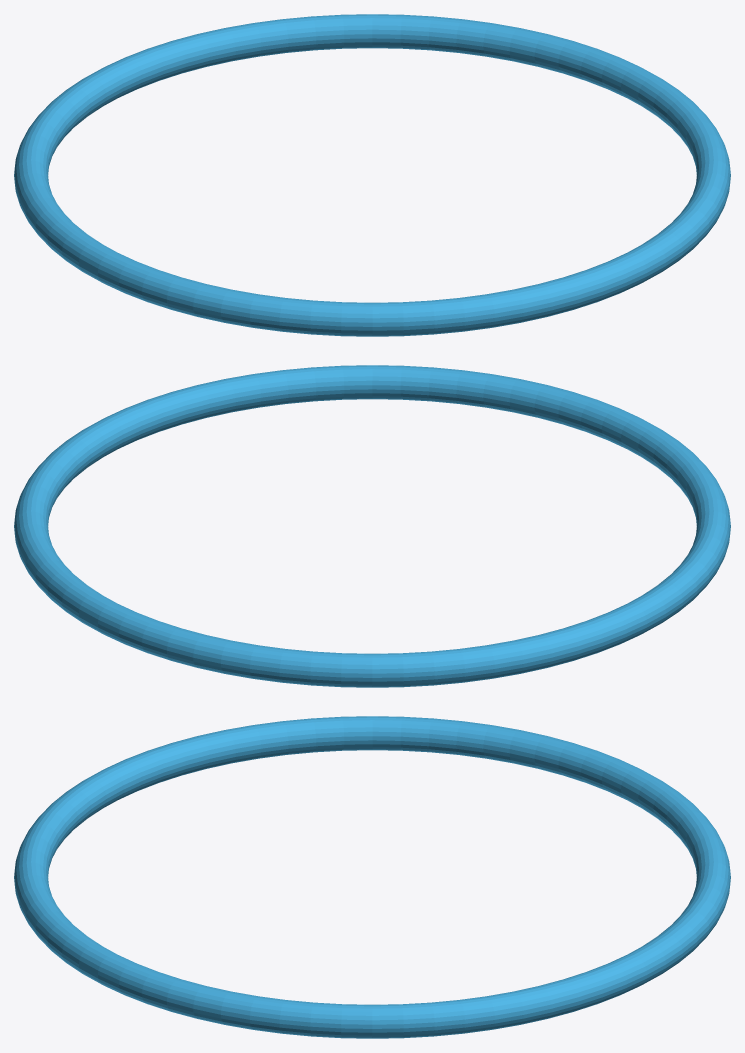
File: Torusn.fbx
The picture shows the model from 3 angles, top to bottom: view 1: azimuth 30°, elevation 25°; view 2: azimuth 150°, elevation 25°; view 3: azimuth 270°, elevation 25°; orthographic projection.
Parts seen in each view (by area): view 1: Torus; view 2: Torus; view 3: Torus.
Part boxes in pixels (x1,y1,x2,y2): Torus: [14, 14, 730, 336]; Torus: [14, 365, 730, 687]; Torus: [14, 716, 730, 1038].
Bounding box in the file's own units: 428 × 20.36 × 428.
